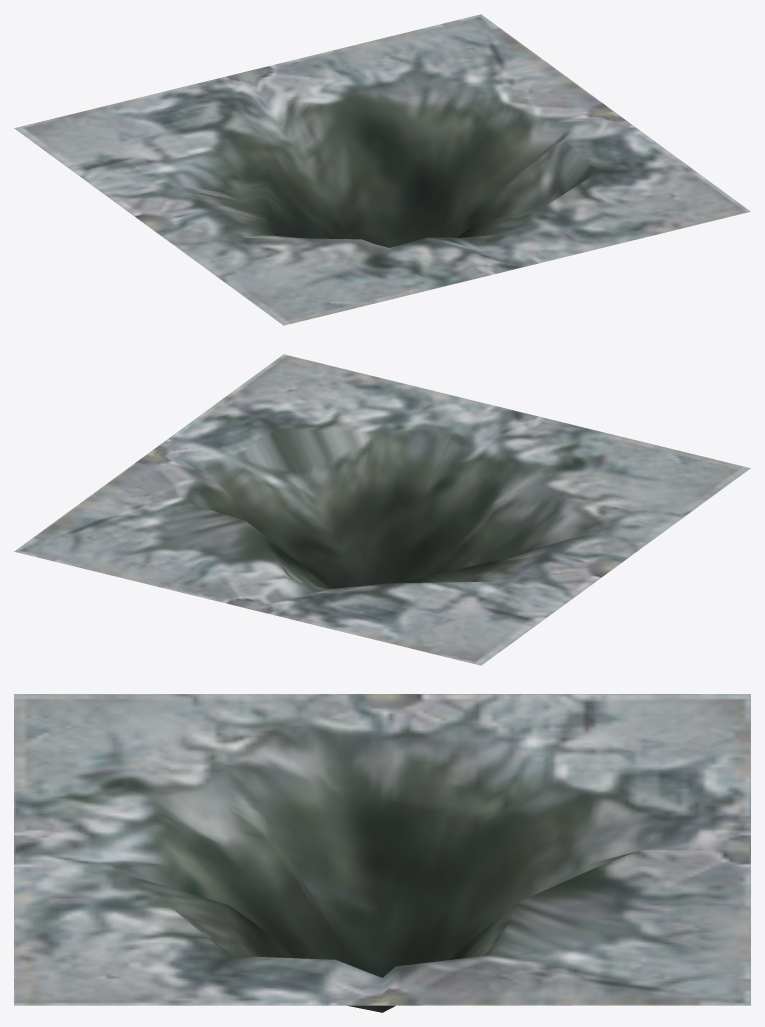
The model's file is a_SWAhole02_a.glb.
3 renders of one model, top to bottom at view 1: azimuth 30°, elevation 25°; view 2: azimuth 150°, elevation 25°; view 3: azimuth 270°, elevation 25°, orthographic. The views are drawn at different scales.
Parts seen in each view (by area): view 1: a_SWAhole02_a; view 2: a_SWAhole02_a; view 3: a_SWAhole02_a.
Boxes of the visible parts, left/top/right/bottom form: a_SWAhole02_a: left=14, top=14, right=750, bottom=325; a_SWAhole02_a: left=14, top=354, right=750, bottom=665; a_SWAhole02_a: left=14, top=694, right=750, bottom=1012.
Bounding box in the file's own units: 1 × 0.252 × 1.
Materials: 1 (1 with a texture image).
